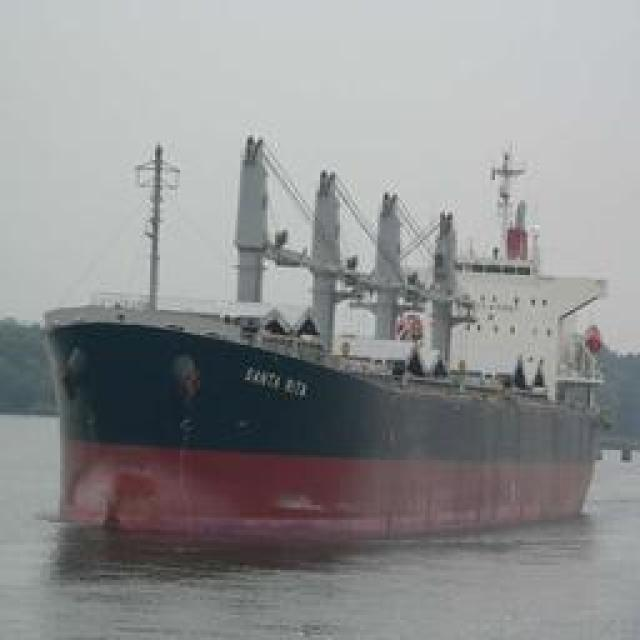ship: (44, 302, 618, 556)
